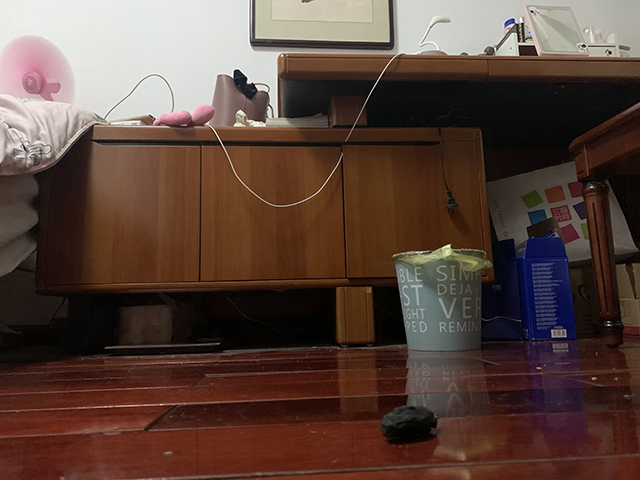feces: (380, 403, 441, 444)
table: (33, 51, 640, 352)
trashcan: (391, 243, 494, 353)
